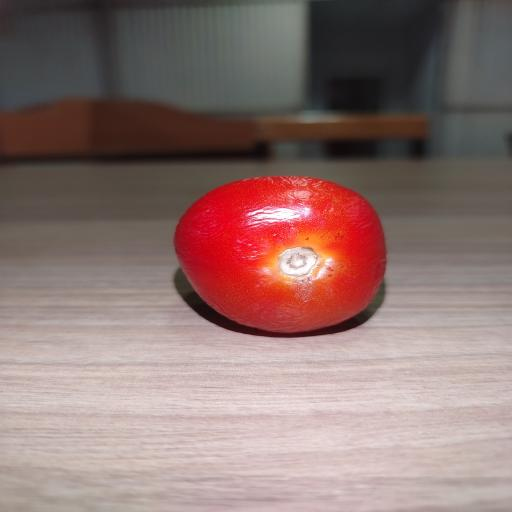spoiled: (174, 177, 386, 333)
